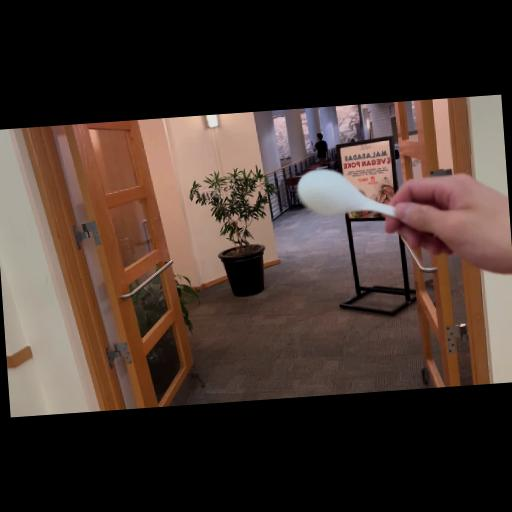utensil: (294, 158, 406, 228)
